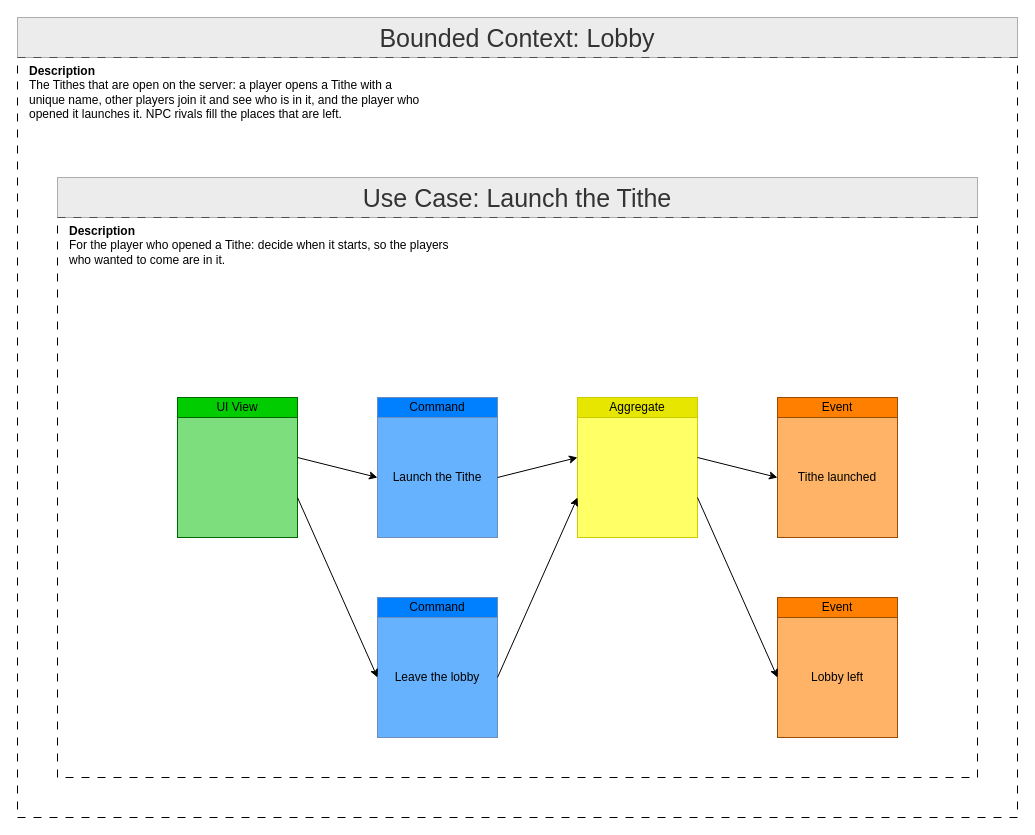
Image size: 1035x835. Some labels were removed from this diagram. The shapes that lost their labels are listed below. From the top down, each one's centre as x and y in pixels, then its label:
At (237,477): "Lobby Player".
At (637,477): "Lobby Players (many) · User name · Character NPC places Launched".
